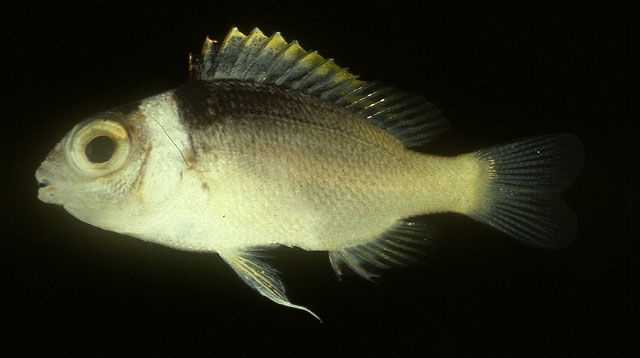fish: (35, 26, 562, 324)
